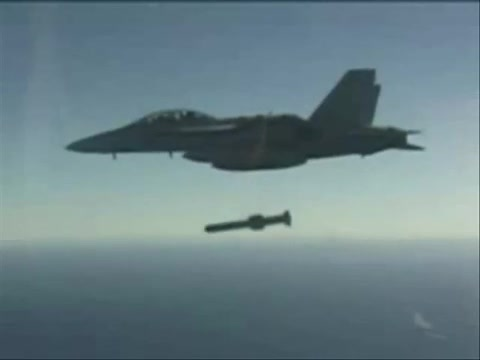aeroplane: (65, 68, 427, 173)
